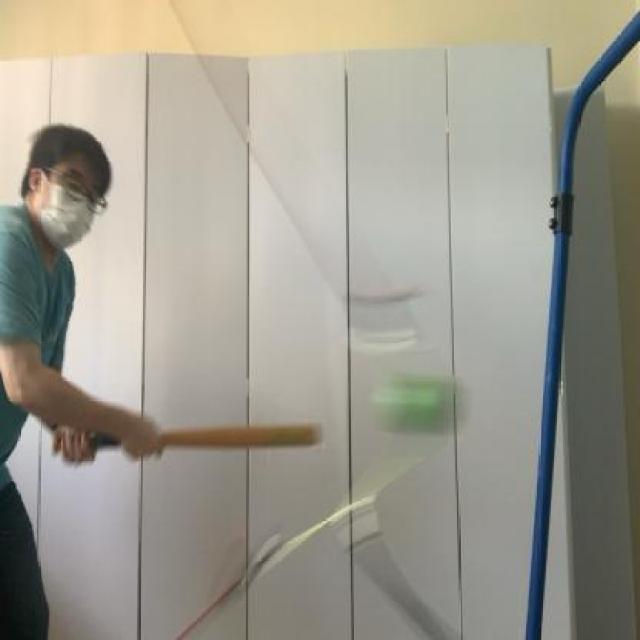baseball: (360, 355, 468, 430)
